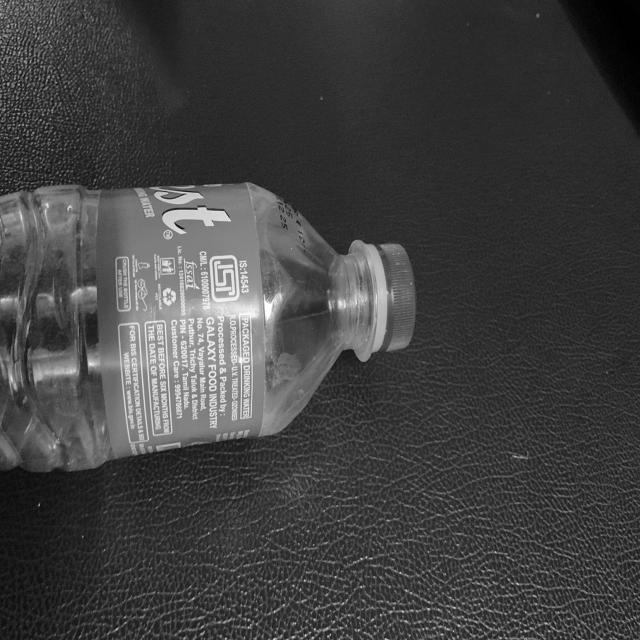Good-cap-Df0S: (354, 238, 418, 360)
